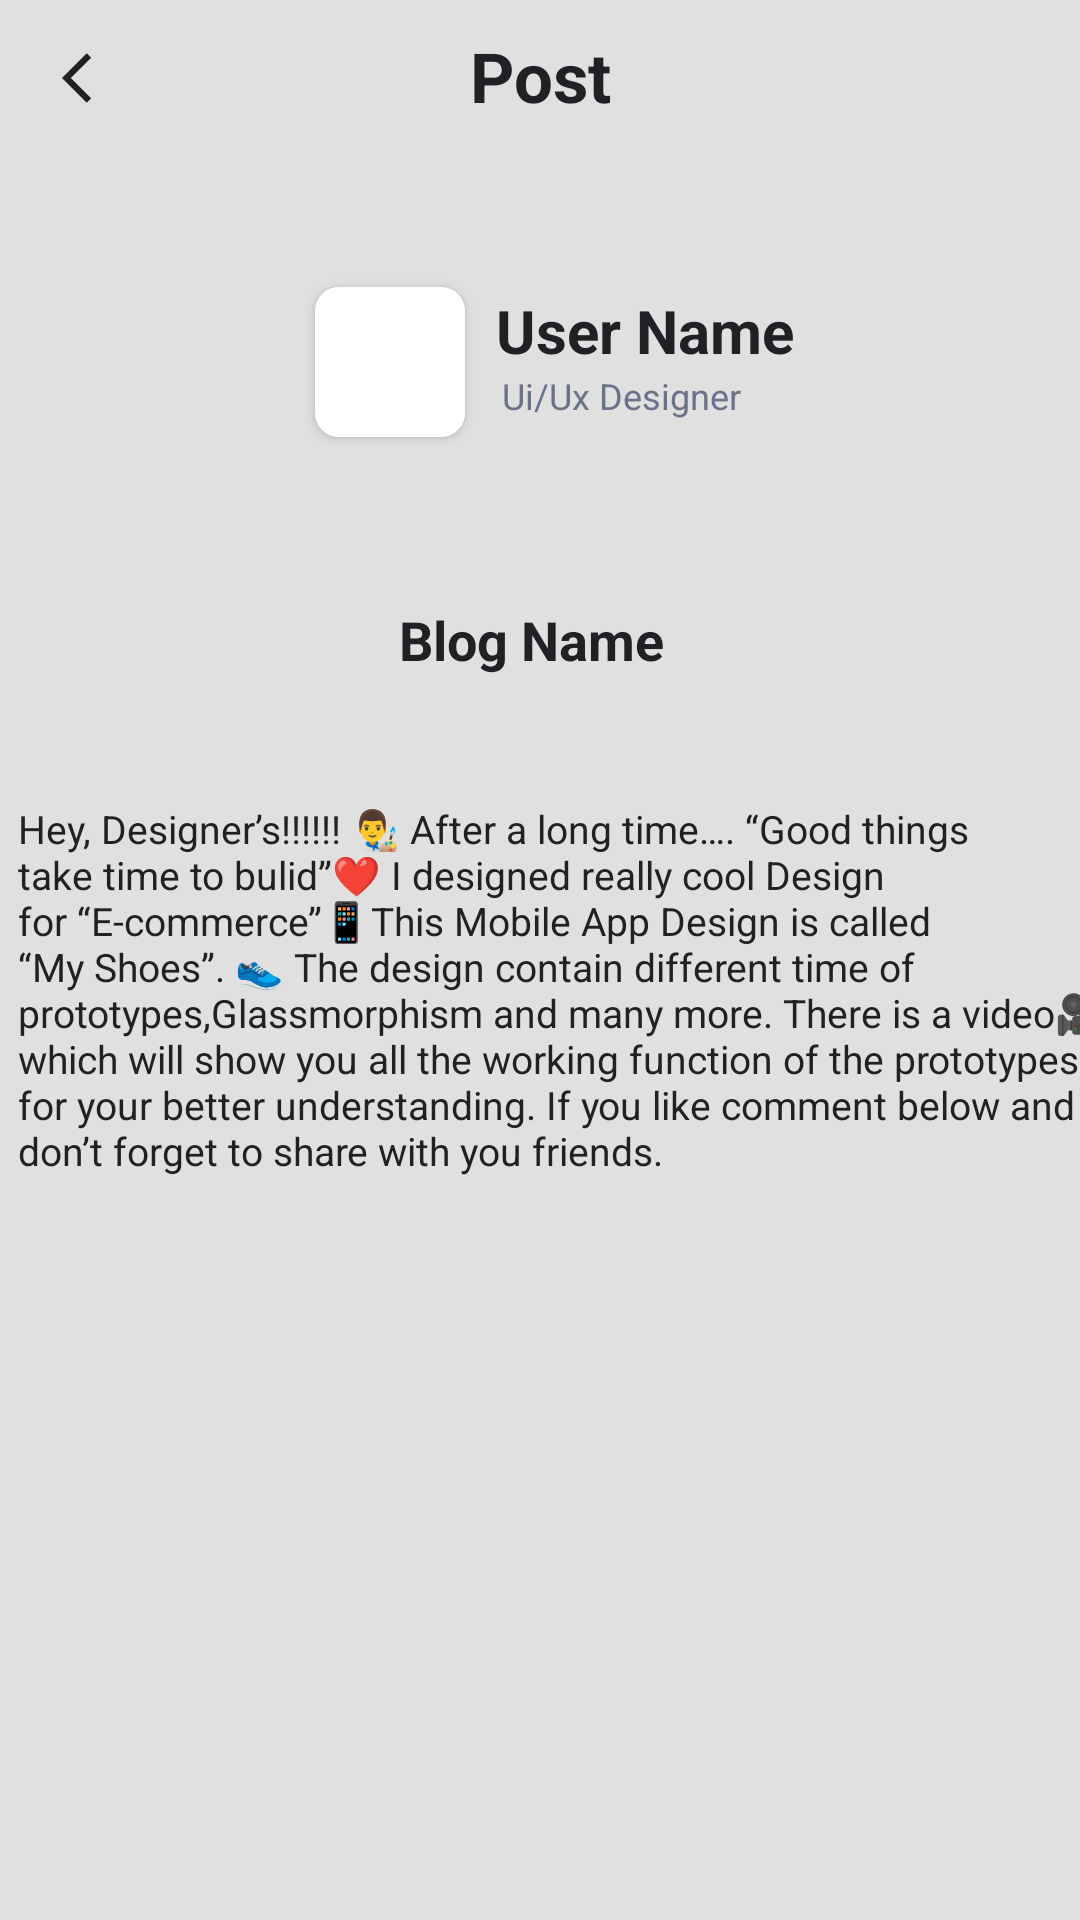

Named icons in this screenshot (1080px x 1920px) and their bounding boxes, (x1, y1, x2, y2):
back: (62, 53, 91, 103)
